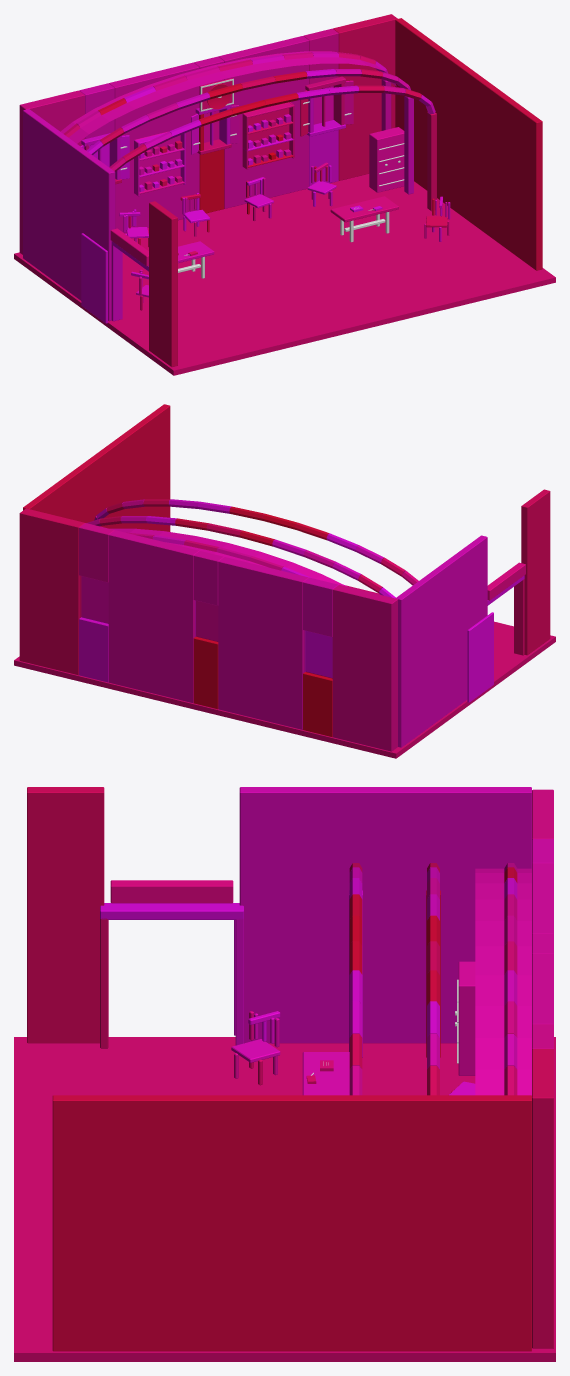
Rendered from court_chapter_05.glb.
3 views of the same model, one above another, from view 1: azimuth 30°, elevation 25°; view 2: azimuth 150°, elevation 25°; view 3: azimuth 270°, elevation 25° (orthographic). The views are drawn at different scales.
Parts seen in each view (by area): view 1: Floor, WallRight, WallLeftRear, WallBackPier_2, WallBackPier_1, WallBackPier_end, WallLeftFront, VaultCeilingBay, VaultRib_2_Curve, VaultRib_1_Curve, ClericalShelves_1, RecordNiche_4.8 (+25 smaller); view 2: WallBackPier_2, WallBackPier_1, WallLeftRear, WallBackPier_0, WallBackPier_end, WallRight, Floor, WallLeftFront, VaultRib_2_Curve, VaultRib_1_Curve, OpenDoorLeaf, WallBackLow_2 (+12 smaller); view 3: WallRight, WallLeftRear, Floor, WallLeftFront, VaultCeilingBay, WallBackPier_end, VaultRib_0_Curve, VaultRib_2_Curve, VaultRib_1_Curve, DoorLintel, EntranceHeader, RecordNiche_-4.8 (+7 smaller).
Boxes of the visible parts, <box> form: Floor: <box>14,174,555,375</box>; WallRight: <box>395,18,542,270</box>; WallLeftRear: <box>23,109,115,321</box>; WallBackPier_2: <box>218,36,308,208</box>; WallBackPier_1: <box>109,62,199,233</box>; WallBackPier_end: <box>333,14,397,180</box>; WallLeftFront: <box>149,201,177,366</box>; VaultCeilingBay: <box>60,51,396,143</box>; VaultRib_2_Curve: <box>109,85,435,171</box>; VaultRib_1_Curve: <box>86,69,410,154</box>; ClericalShelves_1: <box>242,102,294,169</box>; RecordNiche_4.8: <box>369,127,404,192</box>; WallBackPier_2: <box>108,530,199,703</box>; WallBackPier_1: <box>218,557,308,729</box>; WallLeftRear: <box>395,535,487,747</box>; WallBackPier_0: <box>332,585,397,751</box>; WallBackPier_end: <box>19,508,84,675</box>; WallRight: <box>23,404,170,531</box>; Floor: <box>14,585,555,758</box>; WallLeftFront: <box>521,489,550,655</box>; VaultRib_2_Curve: <box>94,499,418,585</box>; VaultRib_1_Curve: <box>86,516,395,598</box>; OpenDoorLeaf: <box>467,612,493,702</box>; WallBackLow_2: <box>79,617,108,682</box>; WallRight: <box>52,1095,531,1351</box>; WallLeftRear: <box>239,787,531,1043</box>; Floor: <box>14,1037,555,1361</box>; WallLeftFront: <box>27,787,104,1043</box>; VaultCeilingBay: <box>475,868,531,1095</box>; WallBackPier_end: <box>532,1049,553,1348</box>; VaultRib_0_Curve: <box>504,863,517,1095</box>; VaultRib_2_Curve: <box>349,863,362,1095</box>; VaultRib_1_Curve: <box>427,863,439,1095</box>; DoorLintel: <box>110,880,233,903</box>; EntranceHeader: <box>100,903,243,919</box>; RecordNiche_-4.8: <box>455,961,475,1075</box>.
Bounding box in the file's own units: 11.7 × 4.49 × 8.4.
